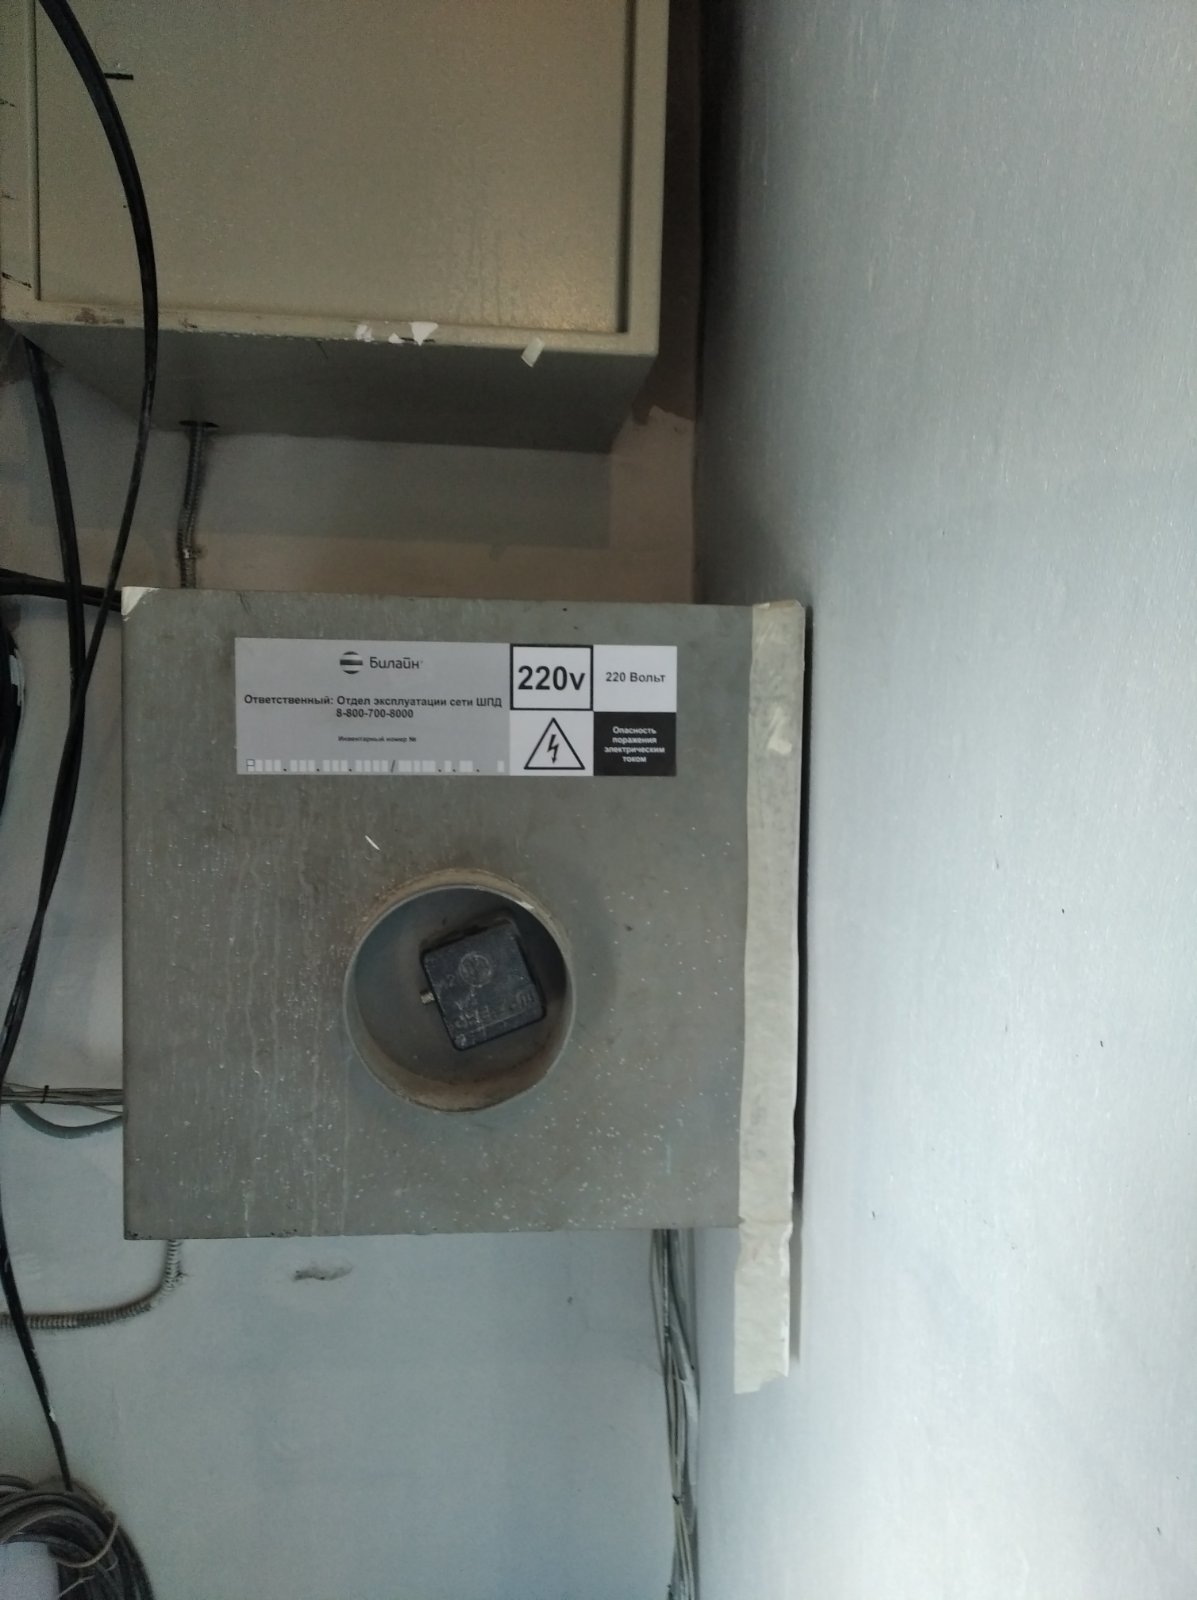shta-9: (96, 556, 829, 1262)
